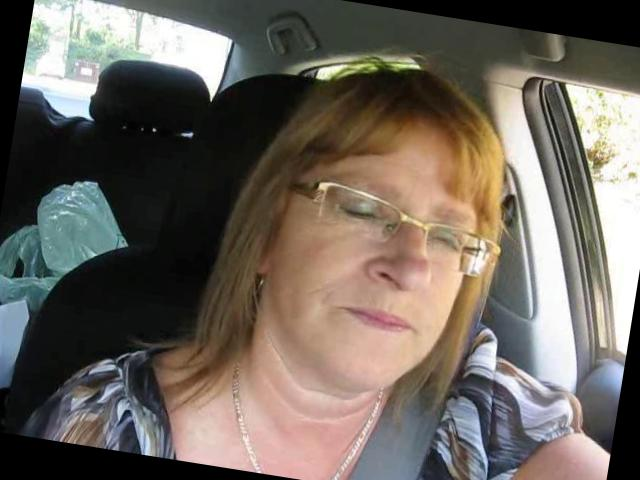eye_closed: (329, 196, 392, 231), (423, 222, 468, 259)
face: (264, 143, 486, 411)
